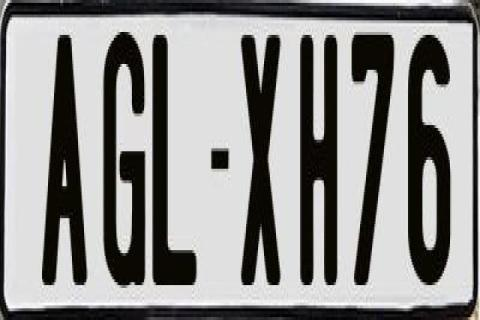0: (407, 26, 455, 282), (350, 29, 392, 282)
A: (42, 29, 94, 297)
G: (100, 26, 148, 294)
H: (298, 27, 336, 286)
L: (150, 32, 199, 294)
X: (240, 32, 282, 282)
